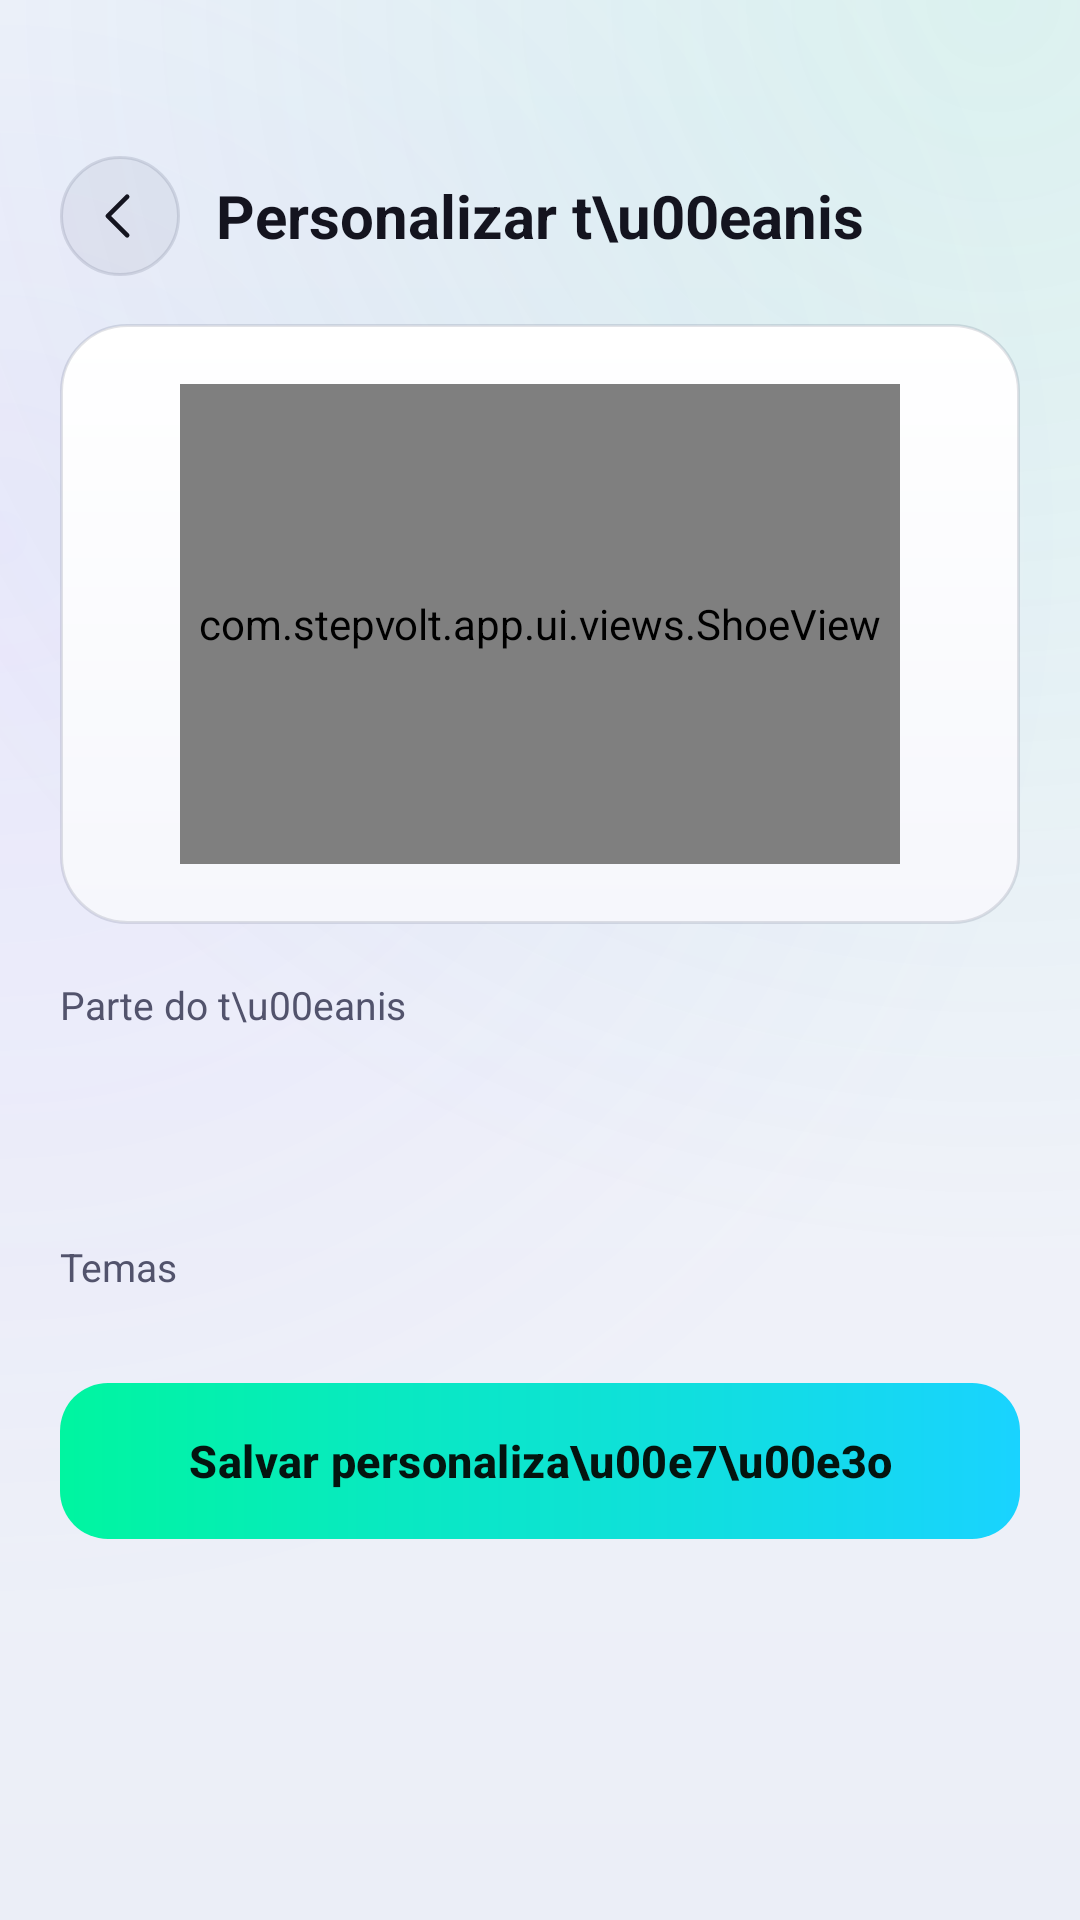

Icons on this 1080px x 1920px Android screen, each with its box as (x1,y1,x2,y2):
back: (60,156,180,276)
